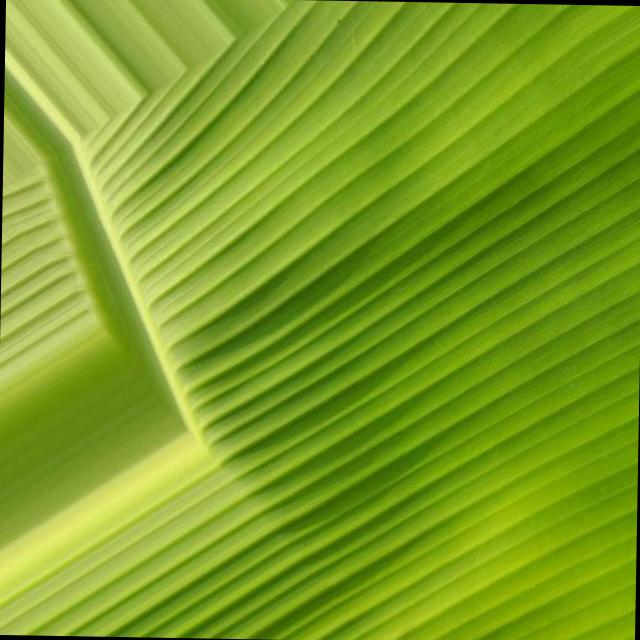Banana_Healthy: (206, 86, 616, 520)
